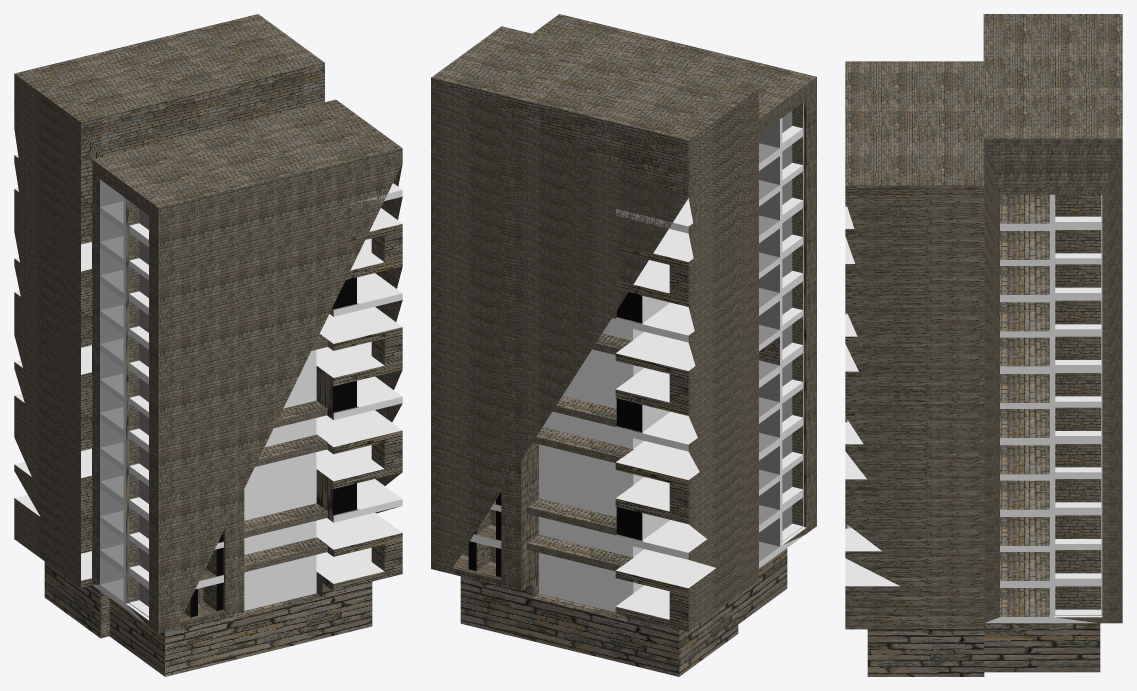
The model's file is bygning 1.fbx.
3 views of the same model, side by side, from view 1: azimuth 30°, elevation 25°; view 2: azimuth 150°, elevation 25°; view 3: azimuth 270°, elevation 25° (orthographic). The views are drawn at different scales.
Parts seen in each view (by area): view 1: polySurface59; view 2: polySurface59; view 3: polySurface59.
Part boxes in pixels (x1=…): polySurface59: x1=14, y1=14, x2=402, y2=676; polySurface59: x1=431, y1=14, x2=816, y2=676; polySurface59: x1=845, y1=14, x2=1122, y2=676.
Size of the model in its own units: 62.71 by 122 by 56.56.
4 materials, 3 textured.
